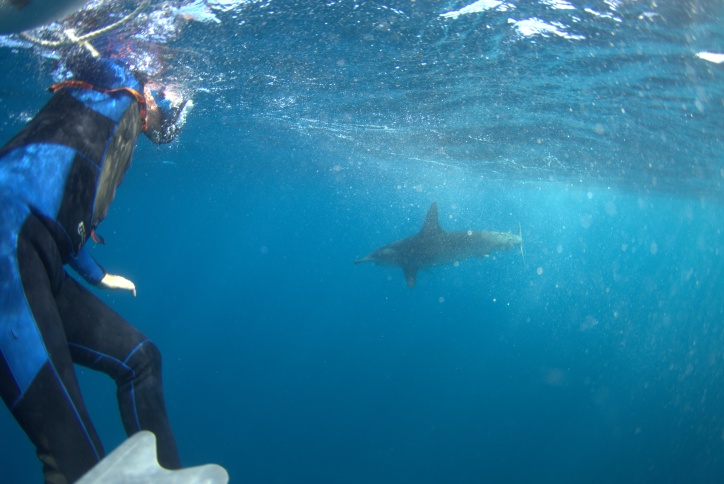Hammer: (334, 194, 553, 322)
